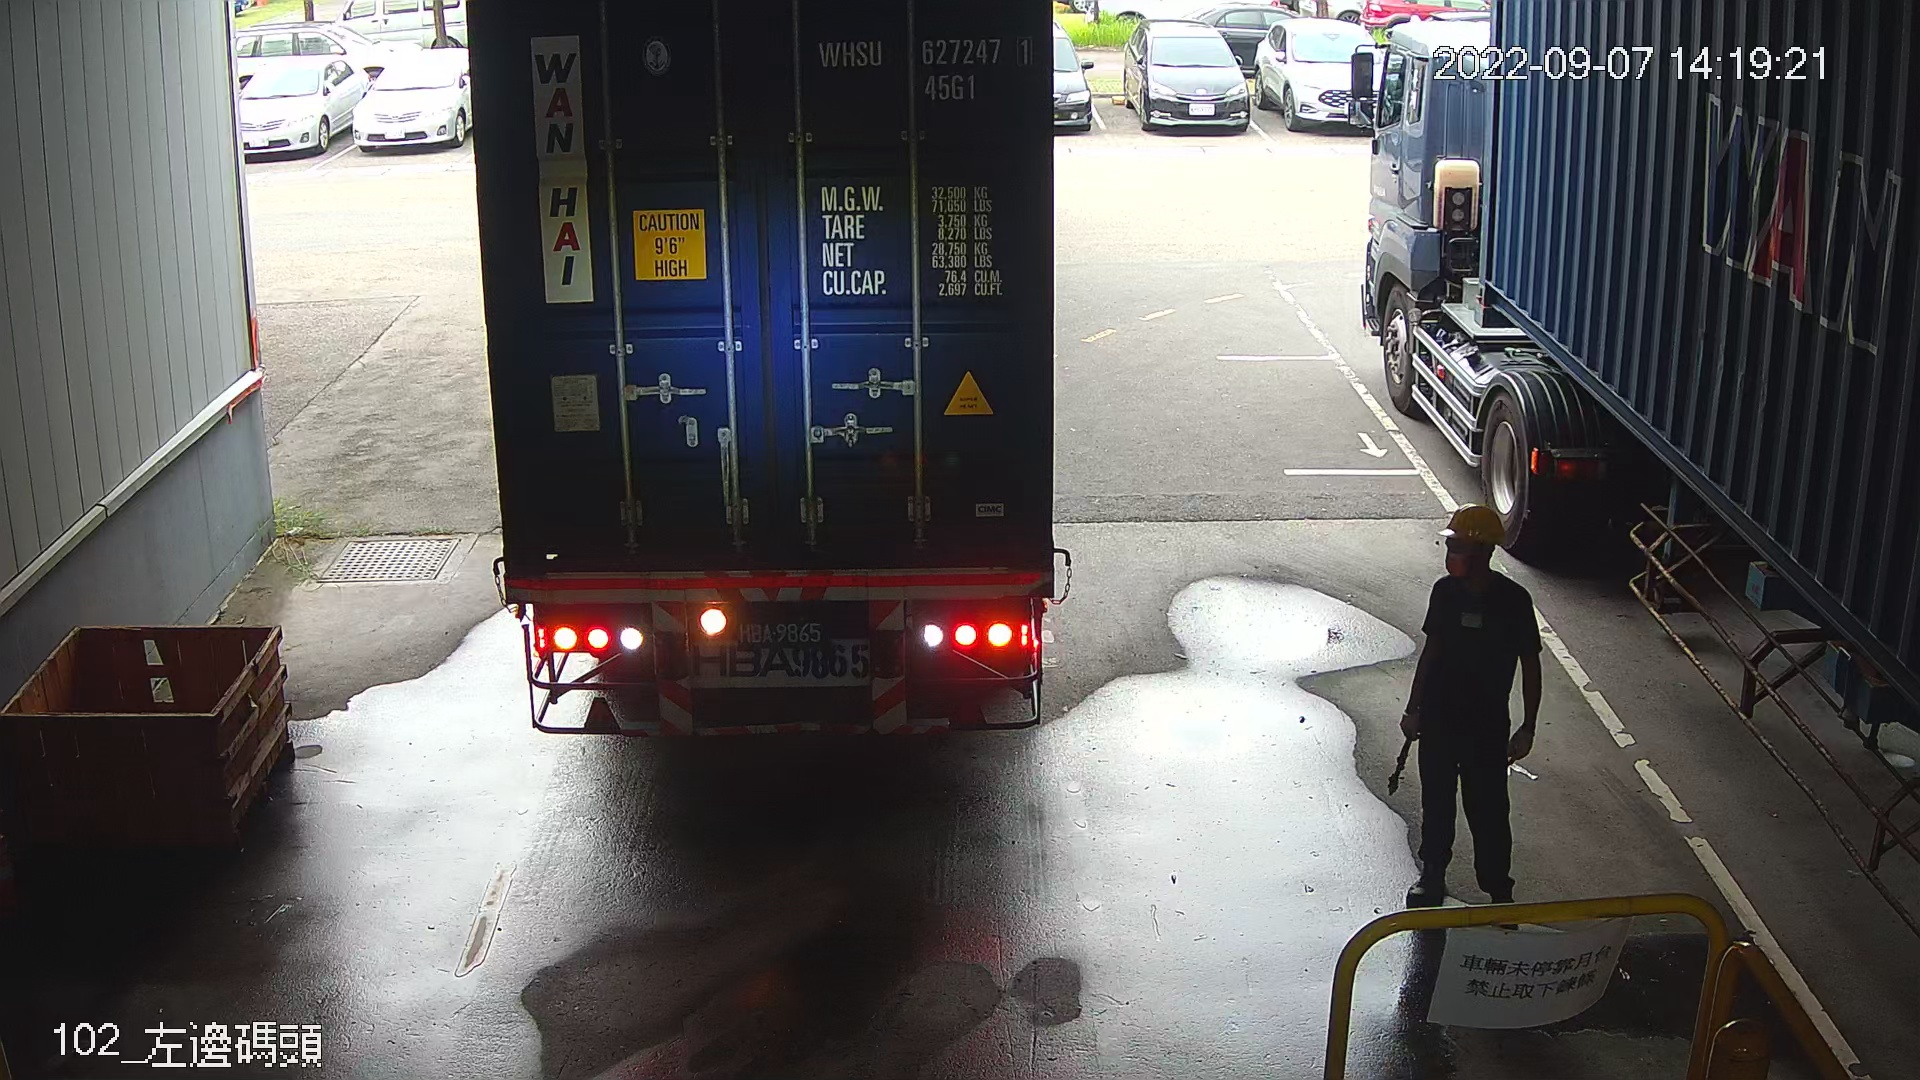container: (812, 29, 1040, 108)
